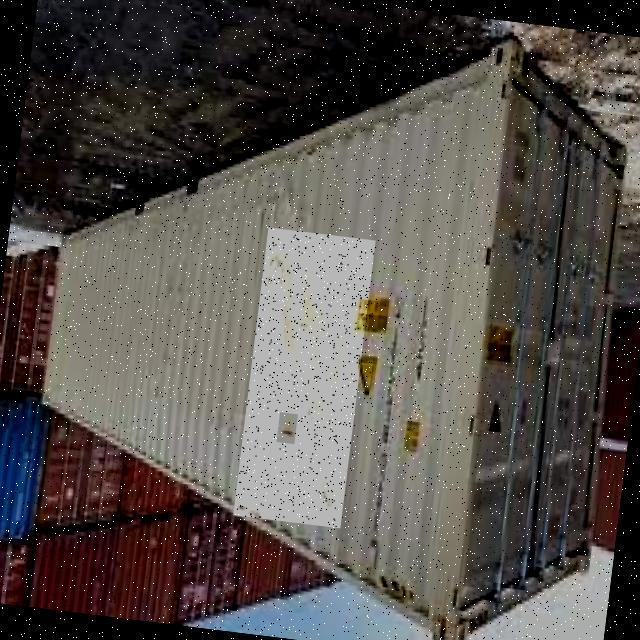Dent: (233, 227, 375, 528)
Hole: (276, 412, 298, 444)
